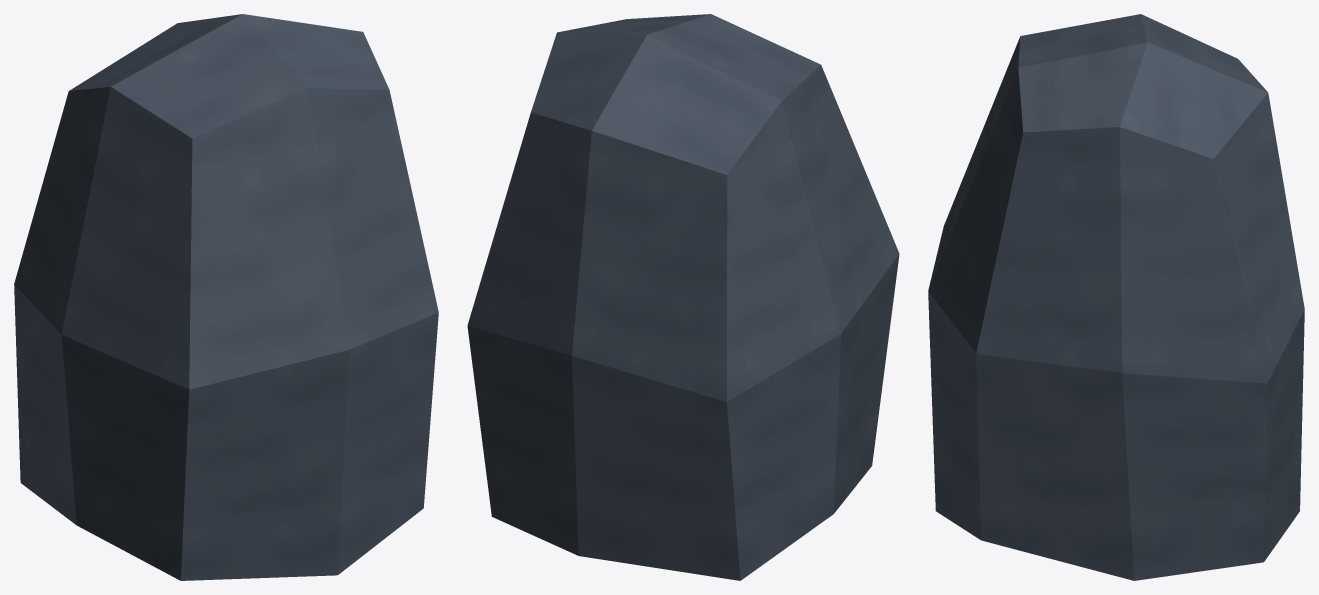
The model's file is Rcok.fbx.
The picture shows the model from 3 angles, left to right: view 1: azimuth 30°, elevation 25°; view 2: azimuth 150°, elevation 25°; view 3: azimuth 270°, elevation 25°; orthographic projection. The views are drawn at different scales.
Parts seen in each view (by area): view 1: Cube; view 2: Cube; view 3: Cube.
Part boxes in pixels (x1,y1,x2,y2): Cube: (14,14,438,580); Cube: (467,14,899,580); Cube: (928,14,1304,580).
Size of the model in its own units: 248 by 250 by 385.
